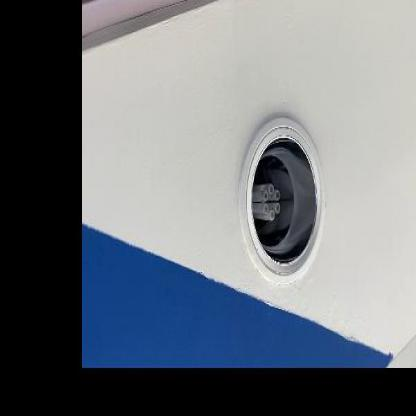light_off: (223, 77, 336, 298)
